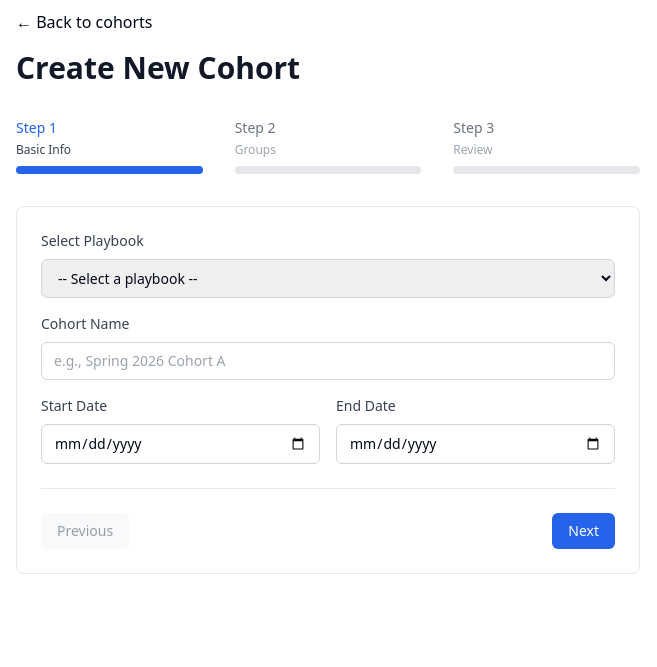
CreateCohortPage › blocks next step when end date is before start date
This screenshot has width=657, height=667.
Select "Playbook 5" in the dropdown labelled "Select Playbook" at (328, 278), box [41,259,615,298]
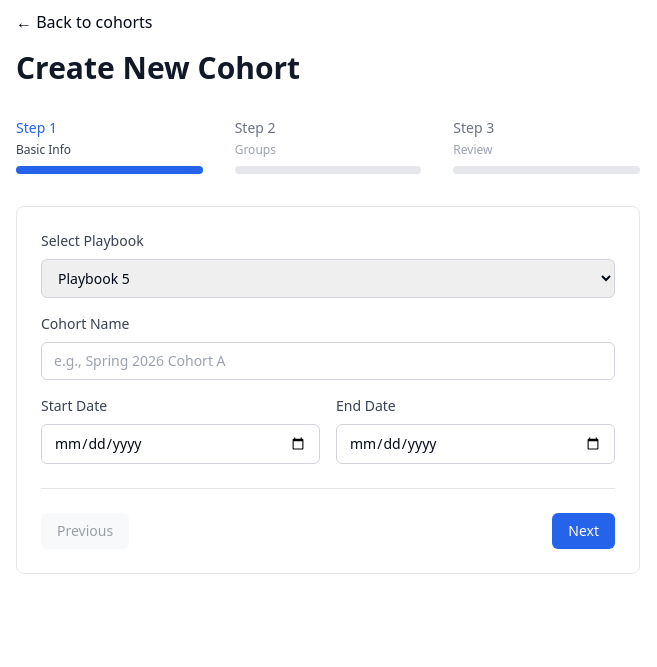
Type "Spring Cohort" into the field labelled "Cohort Name" at (328, 361), box [41,342,615,380]
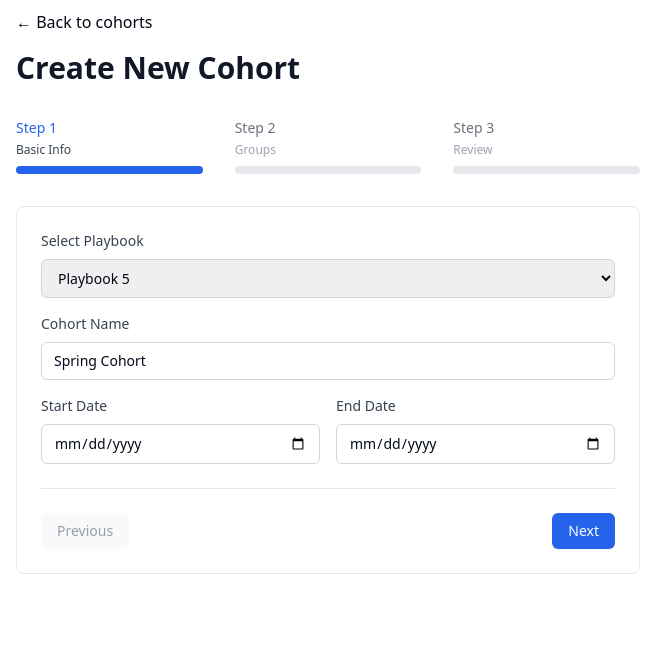
Type "2026-05-10" into the date field labelled "Start Date" at (180, 444), box [41,424,320,464]
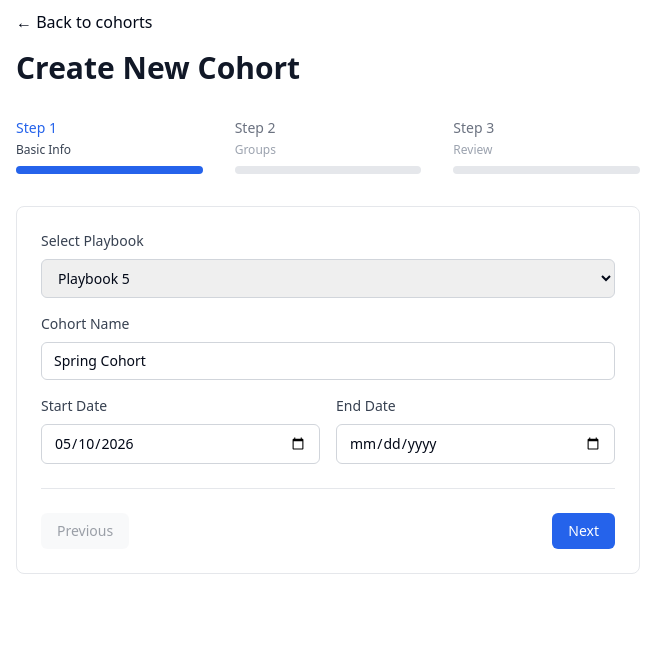
Type "2026-05-01" into the date field labelled "End Date" at (476, 444), box [336,424,615,464]
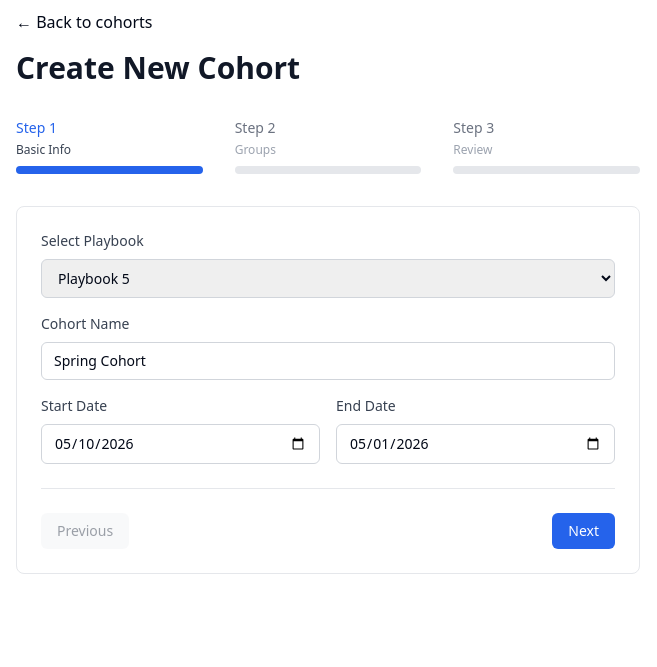
Click the button "Next" at (584, 531), box [552,513,615,549]
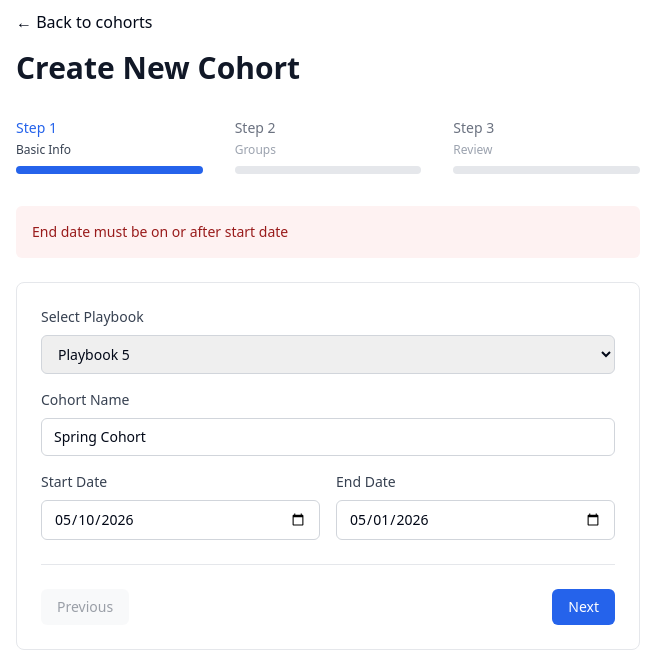
Check: the text "Step 1" is shown, box [16,118,57,137]
Check: the text "End date must be on or after start date" is shown, box [16,206,640,258]
